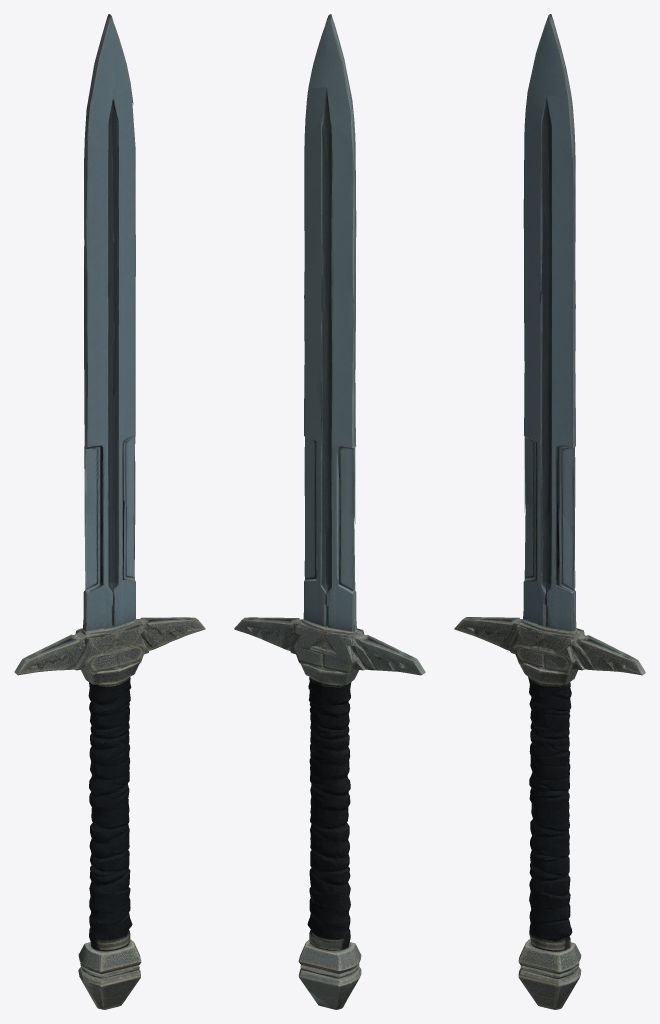
Rendered from sword.glb.
3 renders of one model, left to right at view 1: azimuth 30°, elevation 25°; view 2: azimuth 150°, elevation 25°; view 3: azimuth 330°, elevation 25°, orthographic.
Visible parts, largest first — view 1: mesh_node; view 2: mesh_node; view 3: mesh_node.
Part boxes in pixels (x1,y1,x2,y2): mesh_node: [14, 14, 205, 1009]; mesh_node: [234, 14, 425, 1009]; mesh_node: [454, 14, 645, 1009].
Bounding box in the file's own units: 0.379 × 1.9 × 0.0796.
1 material, 1 textured.
